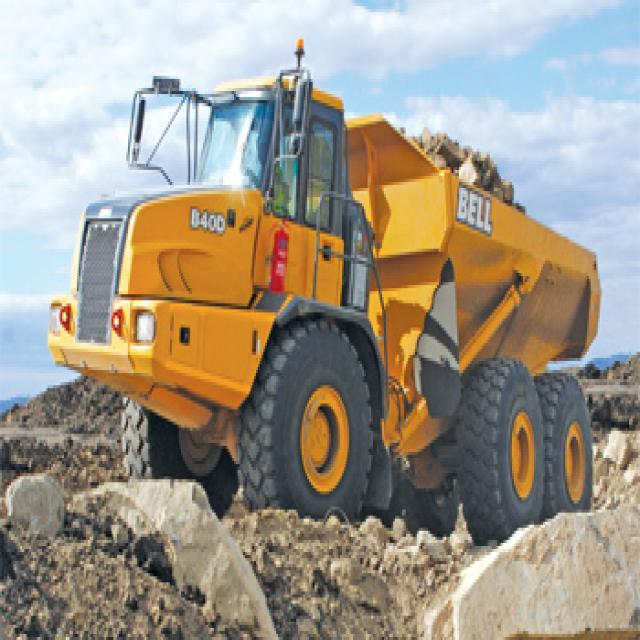dump_truck: (26, 52, 609, 516)
